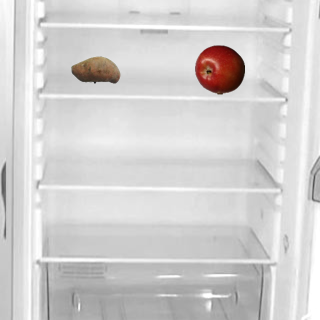Apple Braeburn: (194, 44, 244, 94)
Potato Sweet: (70, 44, 120, 94)
